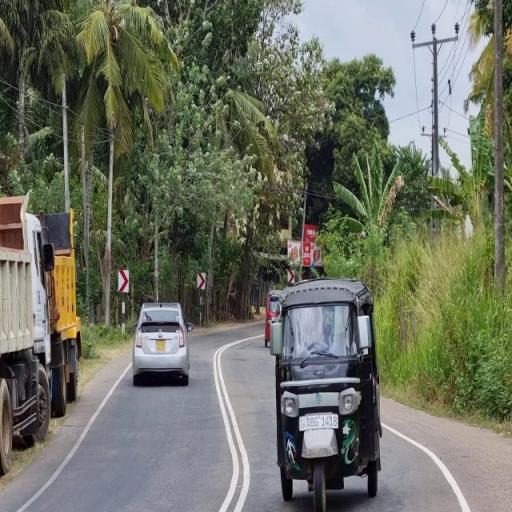double_white_line: (212, 339, 260, 512)
